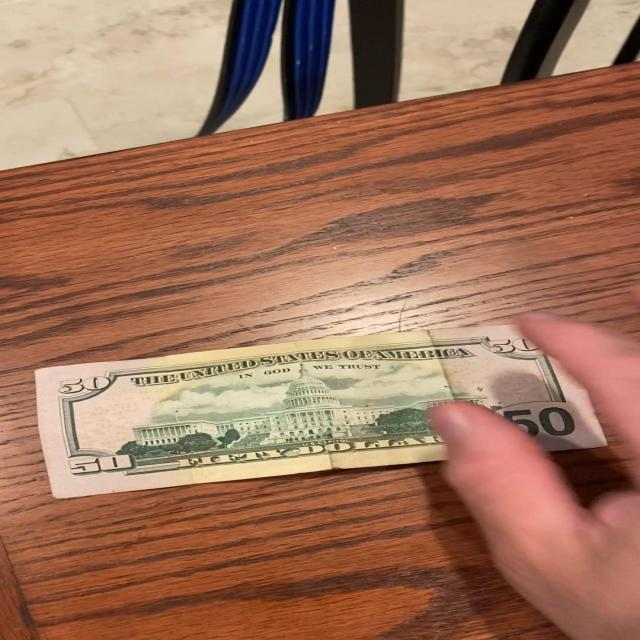50-Back: (28, 320, 608, 510)
